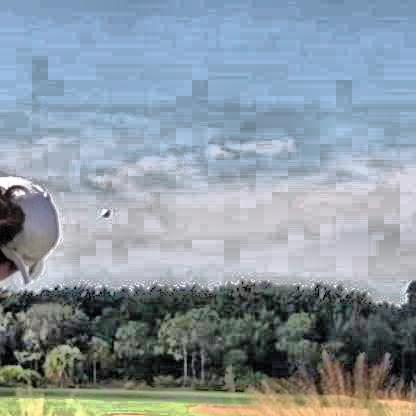golfball: (99, 206, 109, 216)
